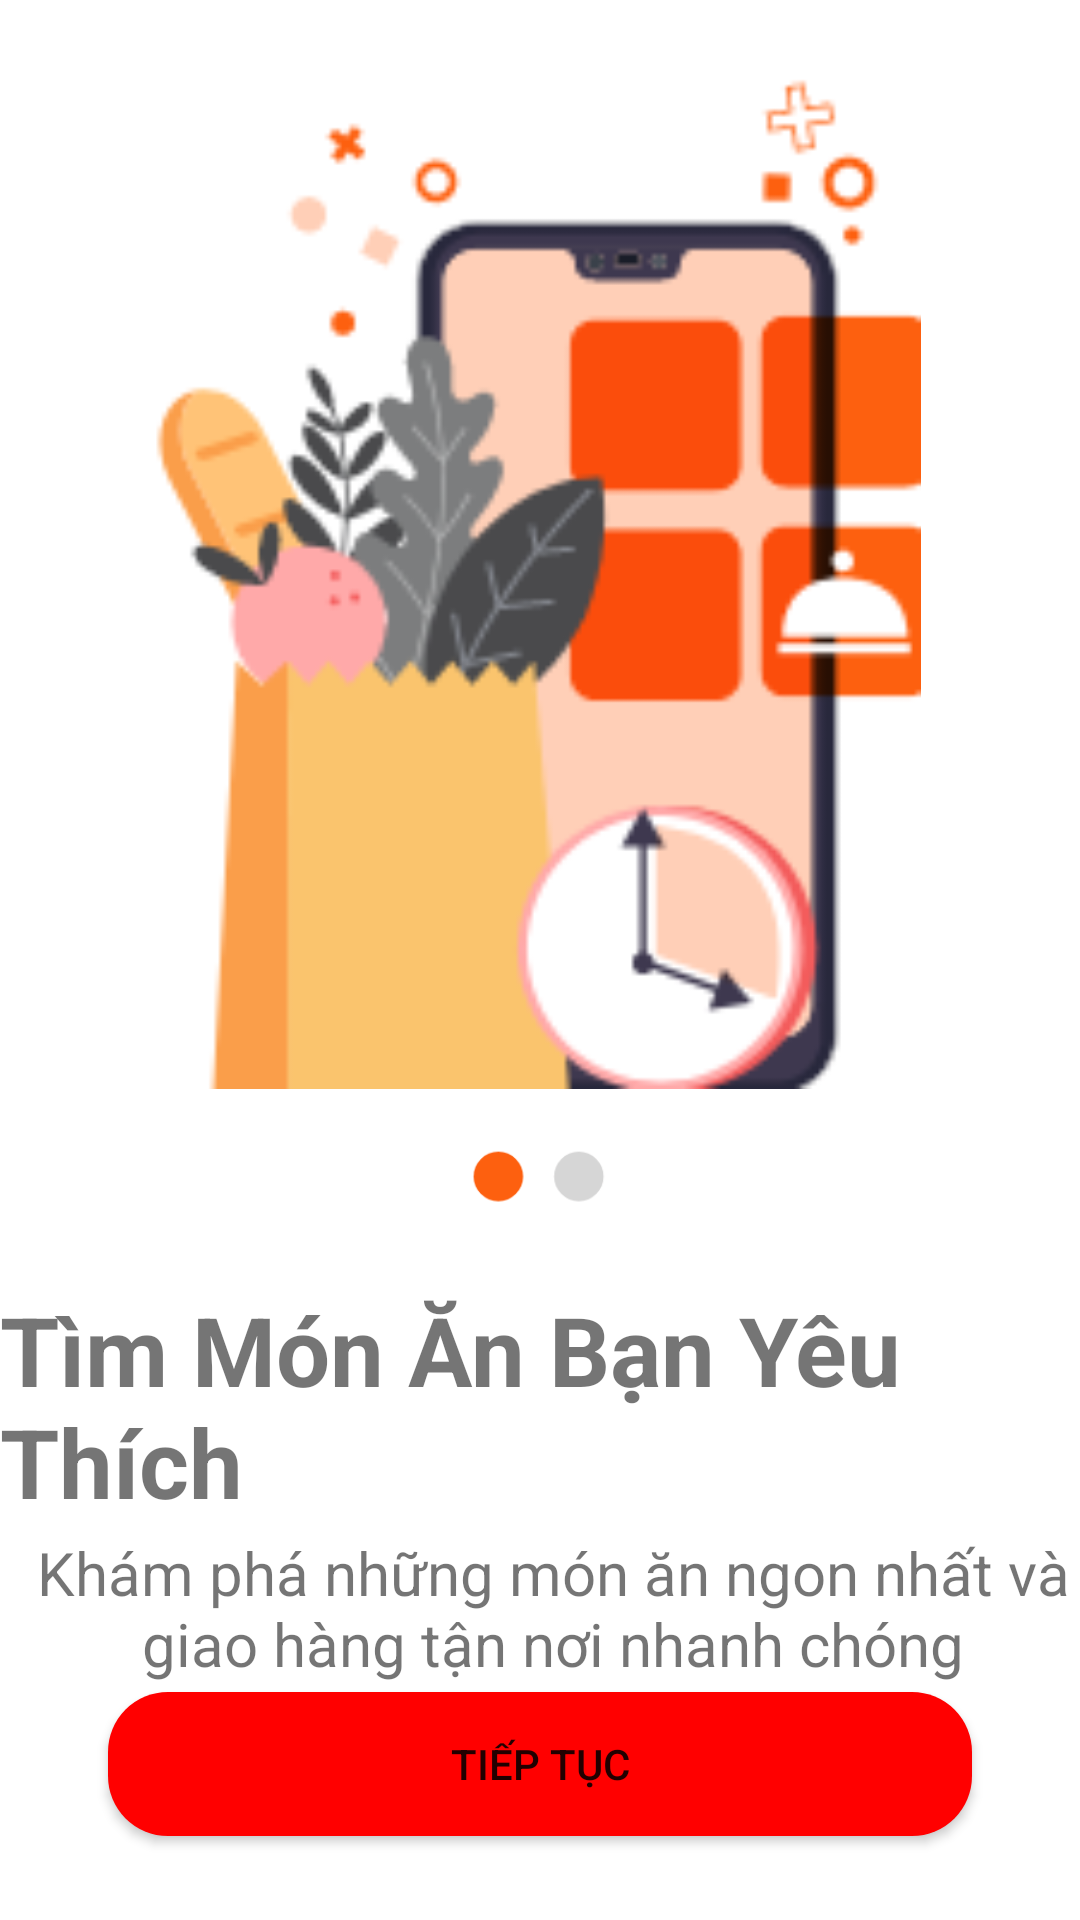

Where icons sit on this 1080 × 1920 app screen, as (x1, y1, x2, y2):
dot: (473, 1151, 603, 1202)
